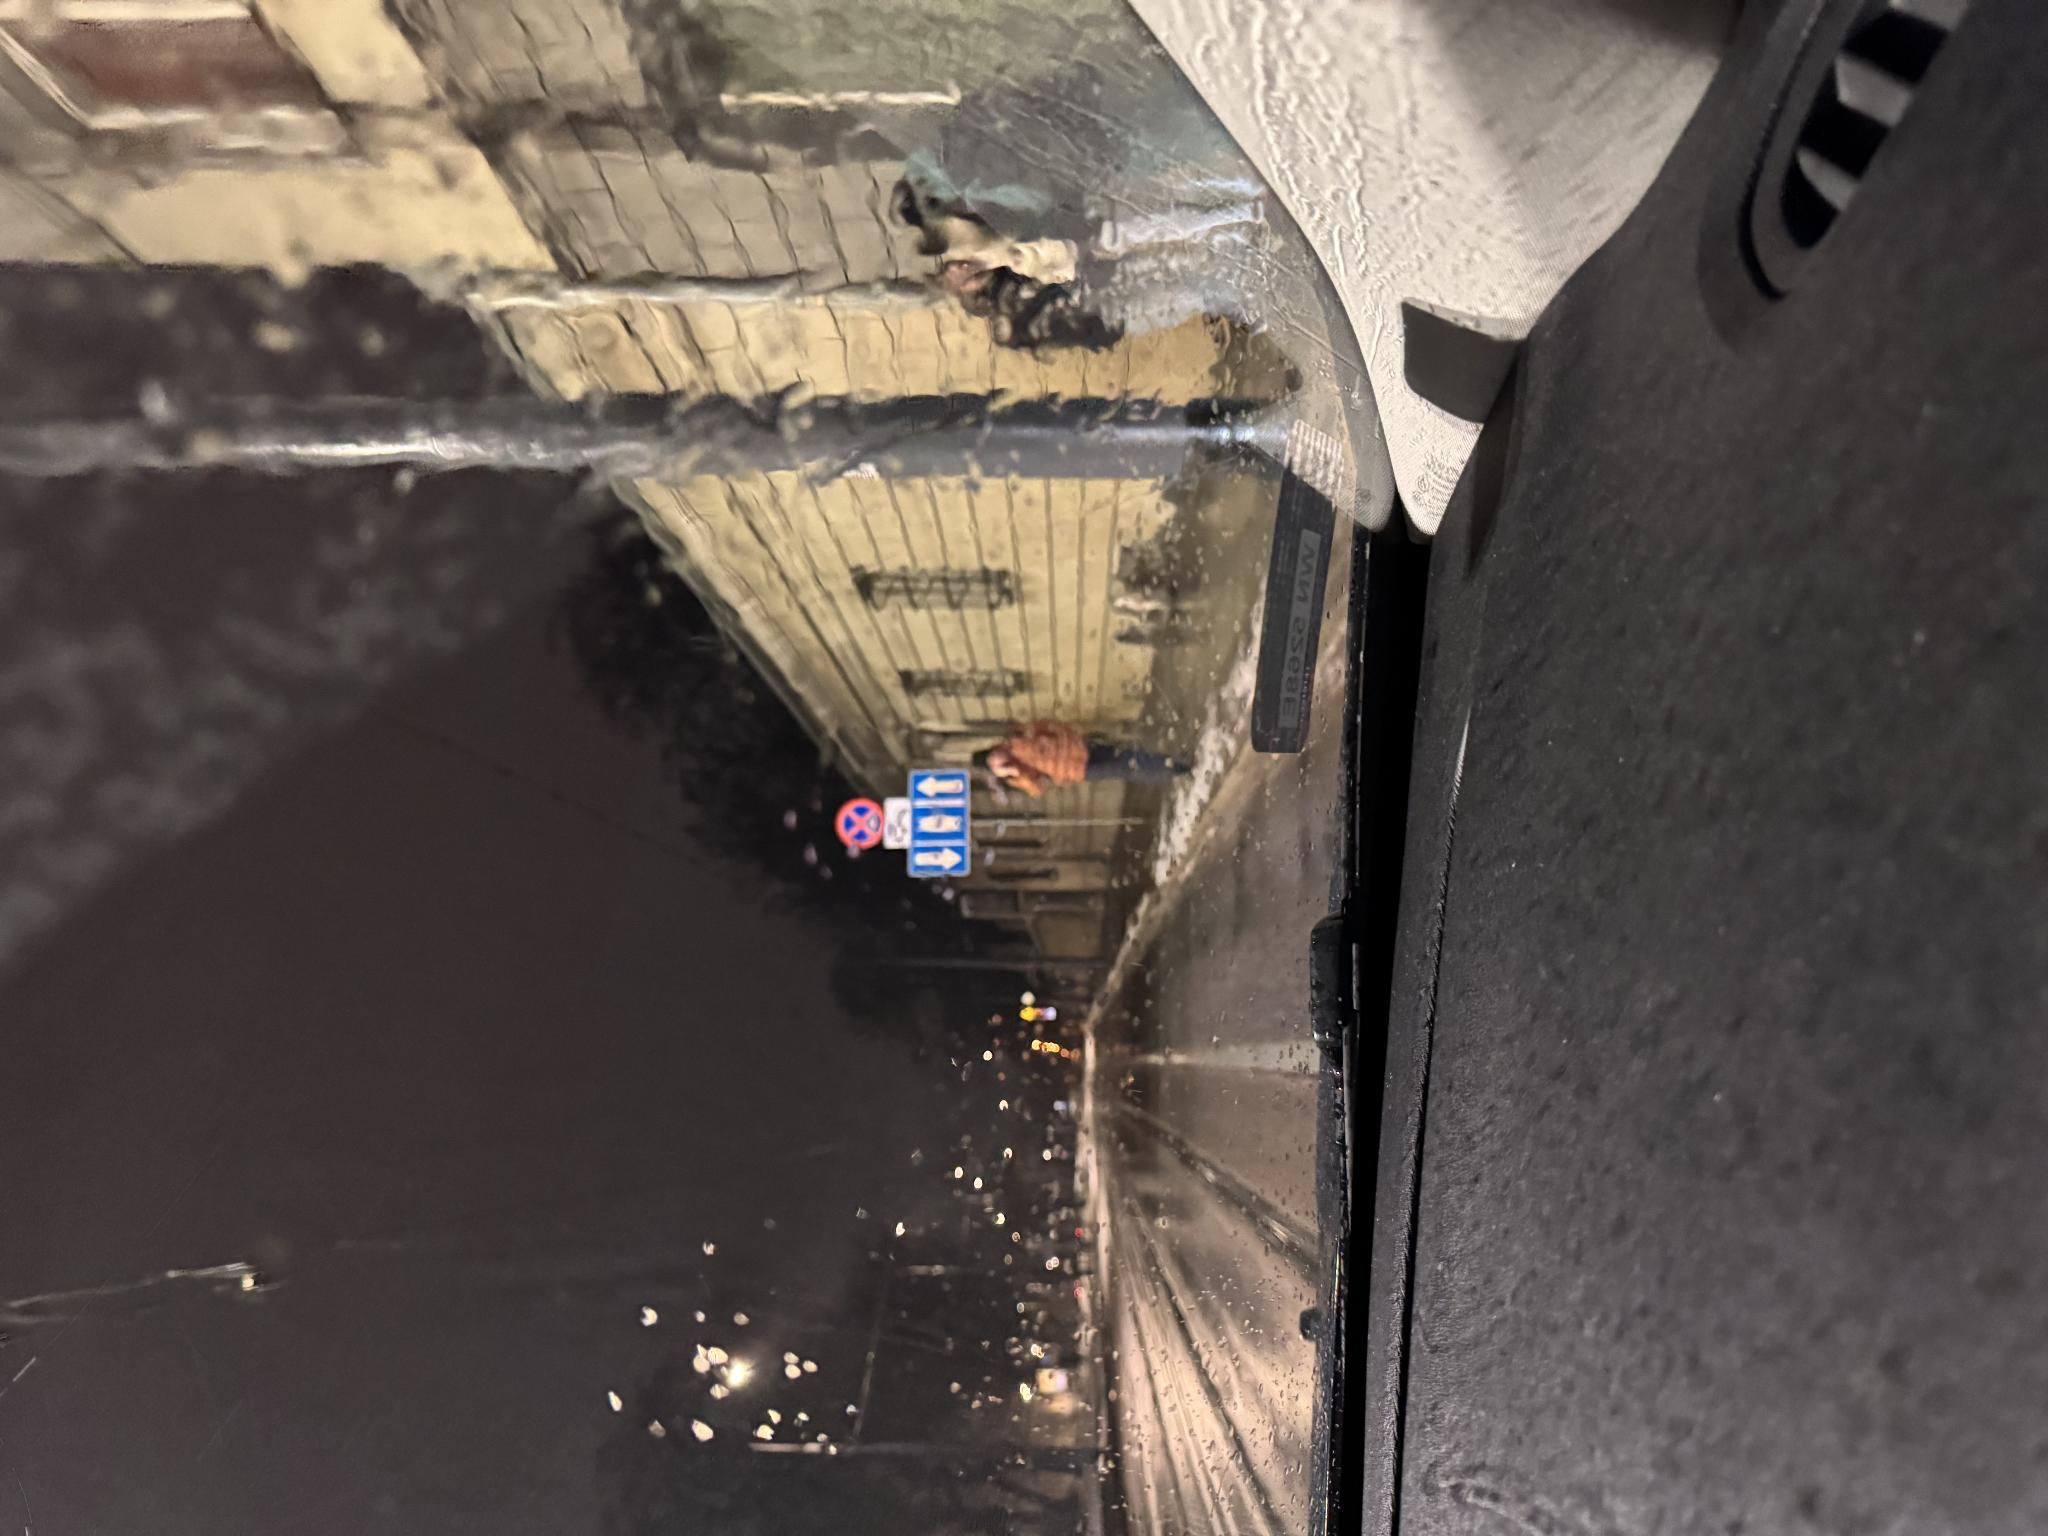other: (660, 907, 769, 971), (689, 884, 740, 912)
prohibitory: (687, 836, 740, 884)
